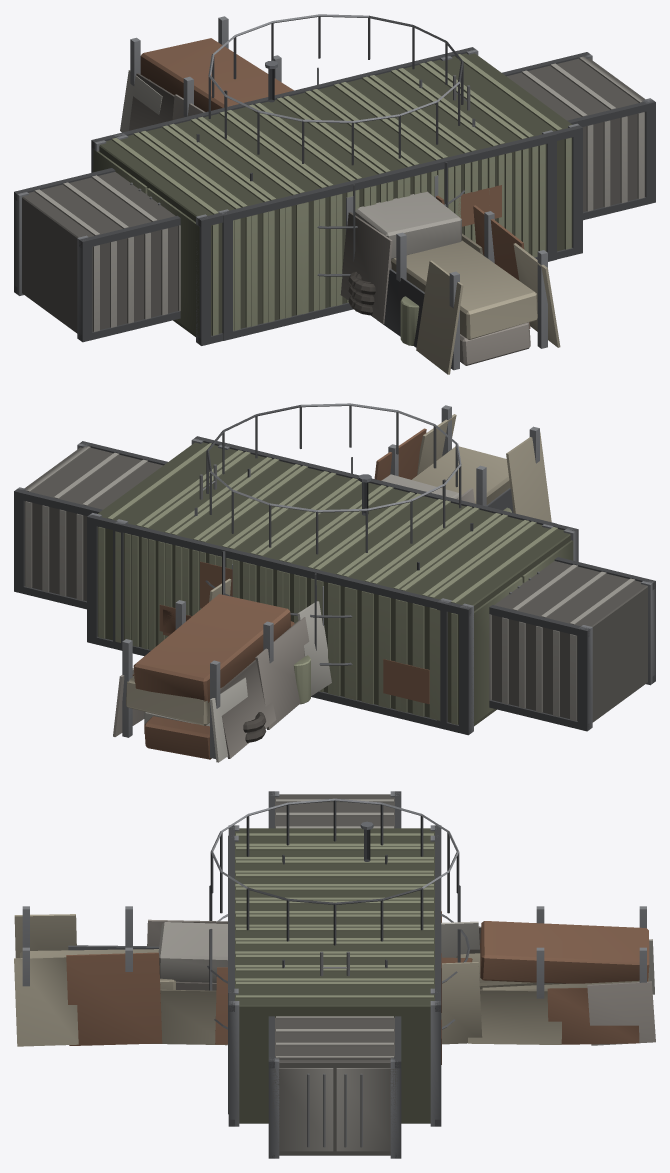
Rendered from map_01_props.glb.
3 renders of one model, top to bottom at view 1: azimuth 30°, elevation 25°; view 2: azimuth 150°, elevation 25°; view 3: azimuth 270°, elevation 25°, orthographic. The views are drawn at different scales.
Parts seen in each view (by area): view 1: DressingContainer7, DressingContainer8, ScrapWall, Container, FuelTankTrim; view 2: DressingContainer8, DressingContainer7, Container, ScrapWall, FuelTankTrim; view 3: ScrapWall, DressingContainer8, DressingContainer7, Container, FuelTankTrim.
Boxes of the visible parts, x1,y1,x2,y2 form: DressingContainer7: [113, 54, 556, 340]; DressingContainer8: [91, 47, 582, 345]; ScrapWall: [120, 16, 560, 374]; Container: [14, 52, 655, 342]; FuelTankTrim: [196, 14, 475, 276]; DressingContainer8: [87, 436, 578, 735]; DressingContainer7: [113, 442, 556, 722]; Container: [14, 441, 655, 731]; ScrapWall: [113, 405, 551, 762]; FuelTankTrim: [194, 403, 473, 665]; ScrapWall: [14, 906, 655, 1046]; DressingContainer8: [228, 825, 441, 1126]; DressingContainer7: [228, 835, 441, 1114]; Container: [268, 791, 401, 1158]; FuelTankTrim: [207, 798, 470, 1029].
Size of the model in its own units: 12 by 4.15 by 12.
